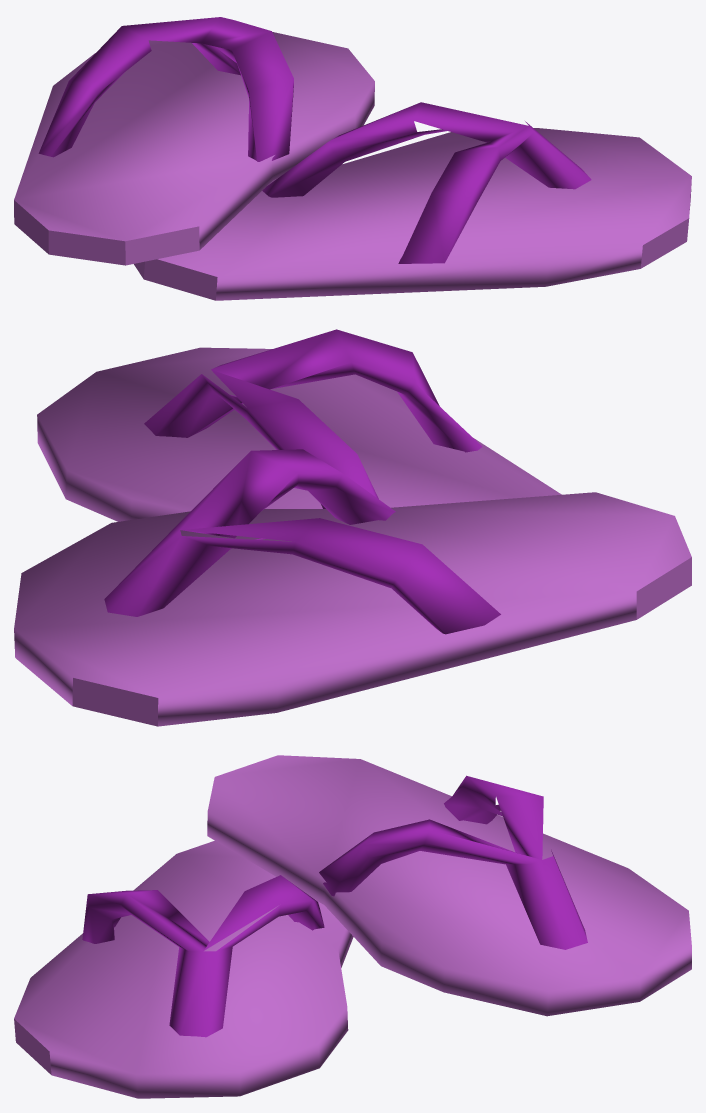
File: dep-xo-ngon.glb
The picture shows the model from 3 angles, top to bottom: view 1: azimuth 30°, elevation 25°; view 2: azimuth 150°, elevation 25°; view 3: azimuth 270°, elevation 25°; orthographic projection. The views are drawn at different scales.
Visible parts, largest first — view 1: dep-xo-ngon; view 2: dep-xo-ngon; view 3: dep-xo-ngon.
Boxes of the visible parts, box(x1,y1,x2,y2) form: dep-xo-ngon: box(14, 17, 691, 300); dep-xo-ngon: box(14, 329, 691, 726); dep-xo-ngon: box(14, 755, 691, 1098).
Size of the model in its own units: 1.55 by 0.35 by 1.57.
